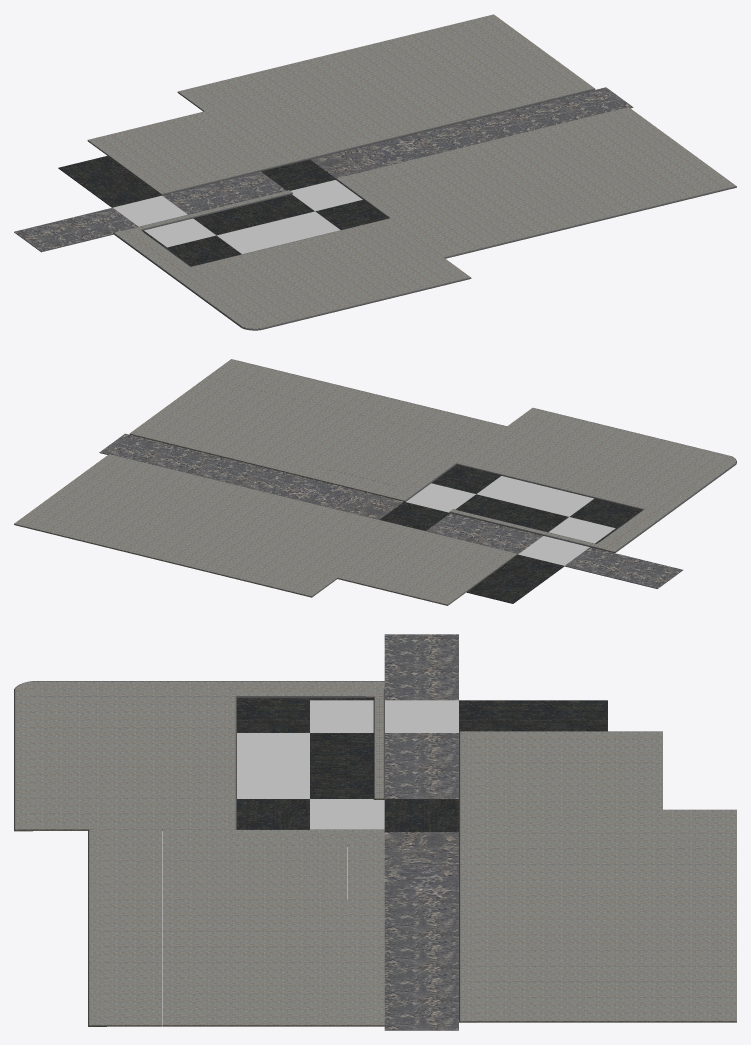
File: Area1Foundation01.fbx
3 renders of one model, top to bottom at view 1: azimuth 30°, elevation 25°; view 2: azimuth 150°, elevation 25°; view 3: azimuth 270°, elevation 25°, orthographic. The views are drawn at different scales.
Visible parts, largest first — view 1: Area1Foundation1; view 2: Area1Foundation1; view 3: Area1Foundation1.
Part boxes in pixels (x1=…): Area1Foundation1: x1=14, y1=14, x2=736, y2=330; Area1Foundation1: x1=14, y1=359, x2=736, y2=605; Area1Foundation1: x1=14, y1=634, x2=736, y2=1030.
Bounding box in the file's own units: 6472 × 19.48 × 4999.
